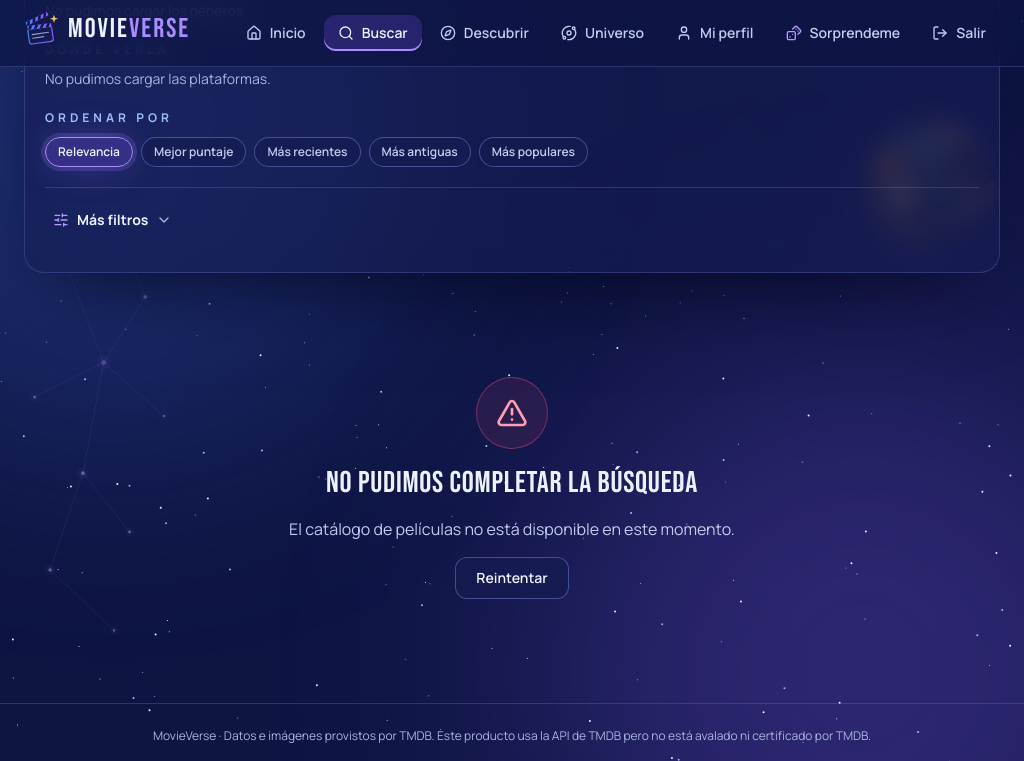
Test: SearchPage › shows the API error and allows retrying
(page scrolled)
Expected: the message shows "El catálogo de películas no está disponible", [289, 518, 735, 540]
Step 1. Click the button "Reintentar" → (512, 578), box [455, 557, 569, 599]
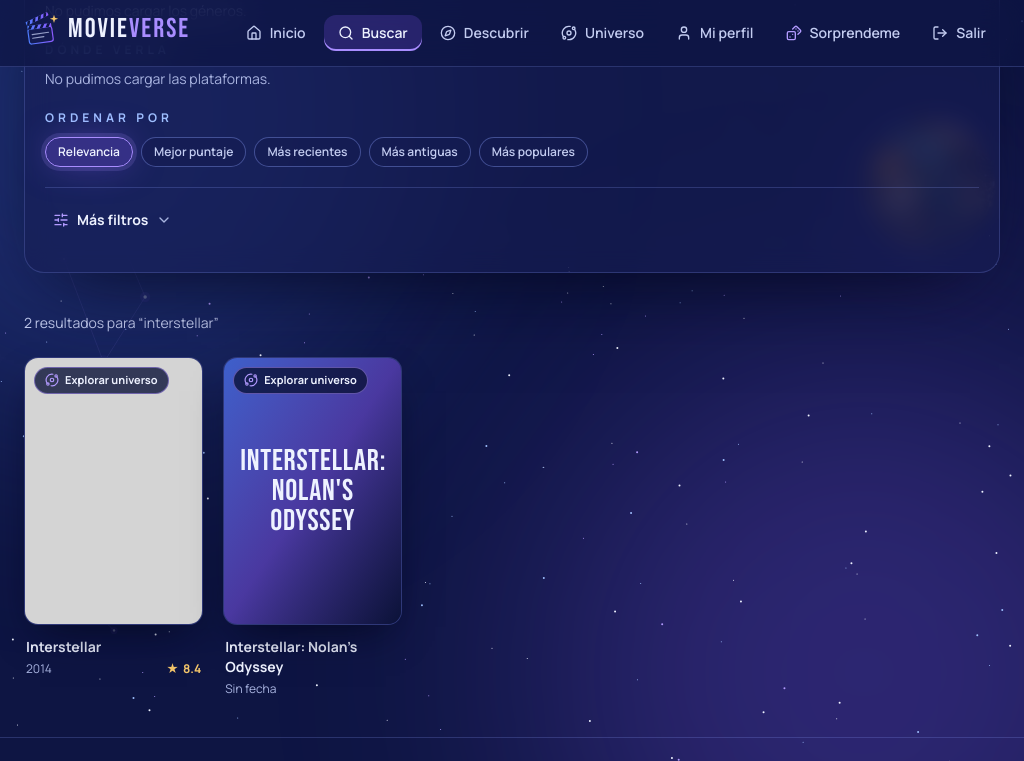
Expected: the text "2 resultados para “interstellar”" is shown, [24, 313, 219, 332]
